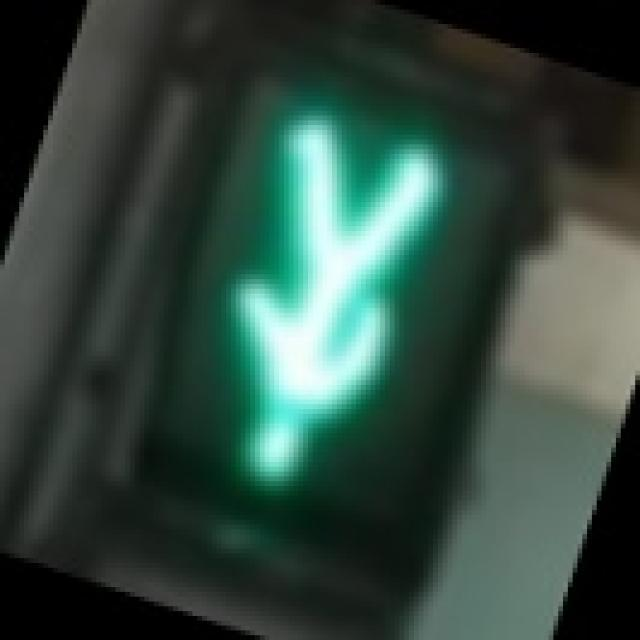geen-crossing: (110, 62, 520, 558)
